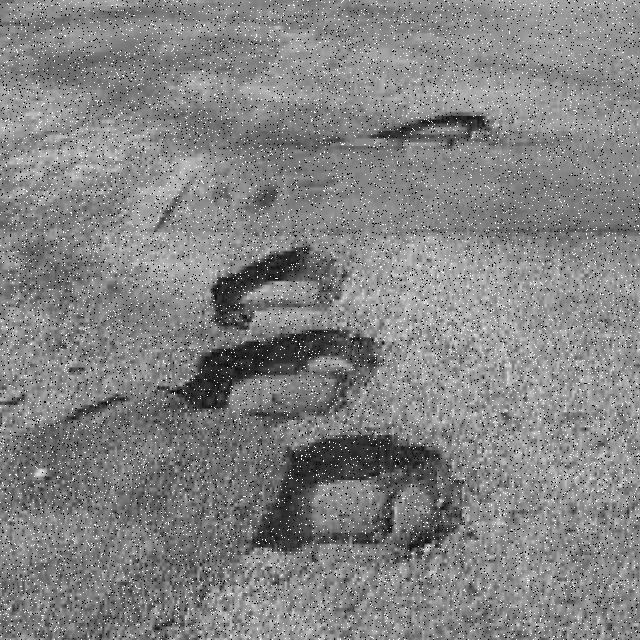pothole: (255, 435, 464, 551), (175, 330, 387, 416), (217, 244, 350, 326), (382, 116, 492, 138)
